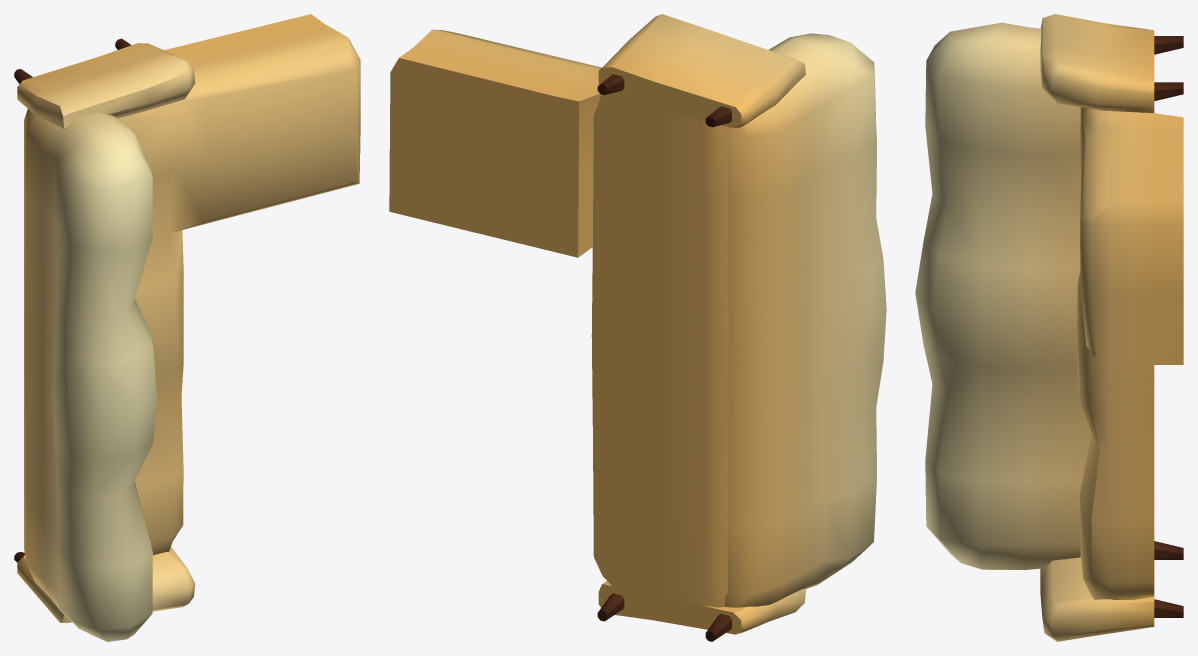
File: Sofa.fbx
3 renders of one model, left to right at view 1: azimuth 30°, elevation 25°; view 2: azimuth 150°, elevation 25°; view 3: azimuth 270°, elevation 25°, orthographic. The views are drawn at different scales.
Parts seen in each view (by area): view 1: Armchair.001; view 2: Armchair.001; view 3: Armchair.001.
Boxes of the visible parts, bbox=[...] form: Armchair.001: bbox=[14, 14, 360, 641]; Armchair.001: bbox=[389, 14, 886, 641]; Armchair.001: bbox=[915, 14, 1183, 641].
Bounding box in the file's own units: 237 × 344 × 144.
